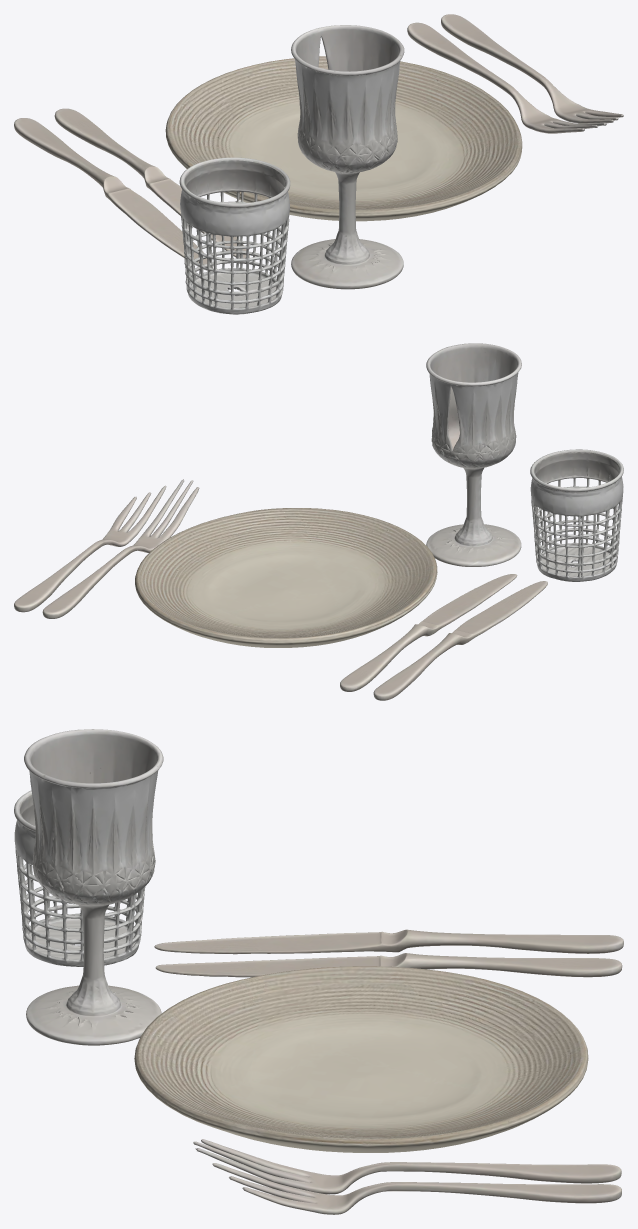
Rendered from decor-place-setting.glb.
3 renders of one model, top to bottom at view 1: azimuth 30°, elevation 25°; view 2: azimuth 150°, elevation 25°; view 3: azimuth 270°, elevation 25°, orthographic. The views are drawn at different scales.
Visible parts, largest first — view 1: tripo_node_7881a7df-9190-4583-9872-dfe1ab741411; view 2: tripo_node_7881a7df-9190-4583-9872-dfe1ab741411; view 3: tripo_node_7881a7df-9190-4583-9872-dfe1ab741411.
Boxes of the visible parts, bbox=[...] form: tripo_node_7881a7df-9190-4583-9872-dfe1ab741411: bbox=[14, 14, 623, 314]; tripo_node_7881a7df-9190-4583-9872-dfe1ab741411: bbox=[14, 343, 623, 700]; tripo_node_7881a7df-9190-4583-9872-dfe1ab741411: bbox=[14, 729, 623, 1214].
Bounding box in the file's own units: 0.45 × 0.1873 × 0.3914.
Materials: 1 (1 with a texture image).
